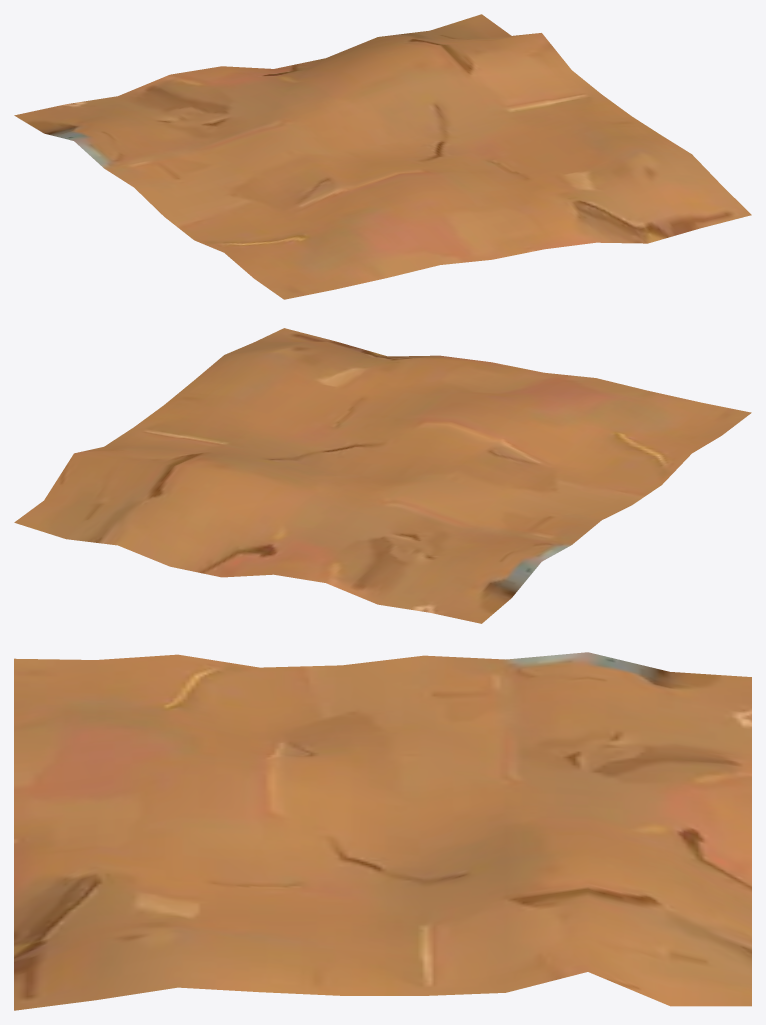
The model's file is gnd_dirt.glb.
3 views of the same model, one above another, from view 1: azimuth 30°, elevation 25°; view 2: azimuth 150°, elevation 25°; view 3: azimuth 270°, elevation 25° (orthographic). The views are drawn at different scales.
Visible parts, largest first — view 1: Dirt; view 2: Dirt; view 3: Dirt.
Part boxes in pixels (x1,y1,x2,y2): Dirt: (14, 14, 751, 299); Dirt: (14, 328, 751, 623); Dirt: (14, 652, 751, 1010).
Bounding box in the file's own units: 2 × 0.1803 × 2.
1 material, 1 textured.
